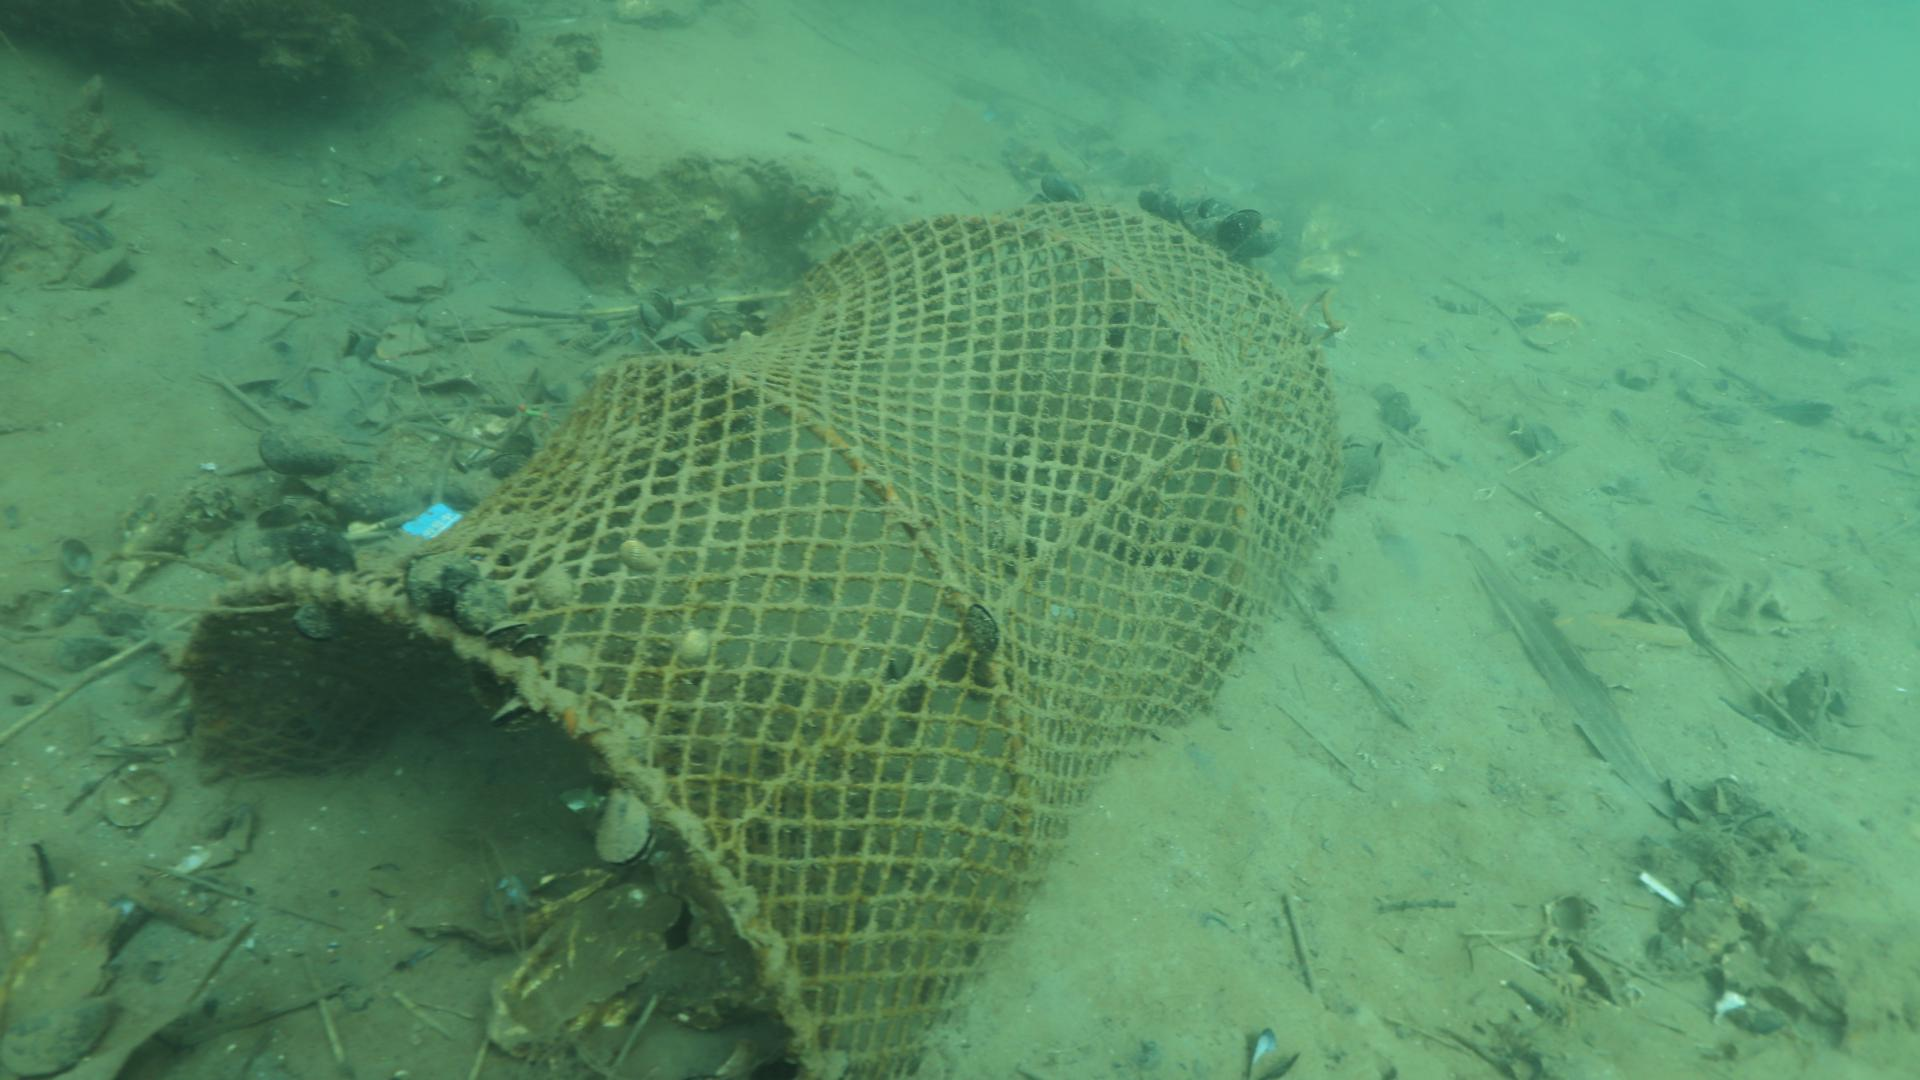spring fish trap: (175, 199, 1345, 1080)
